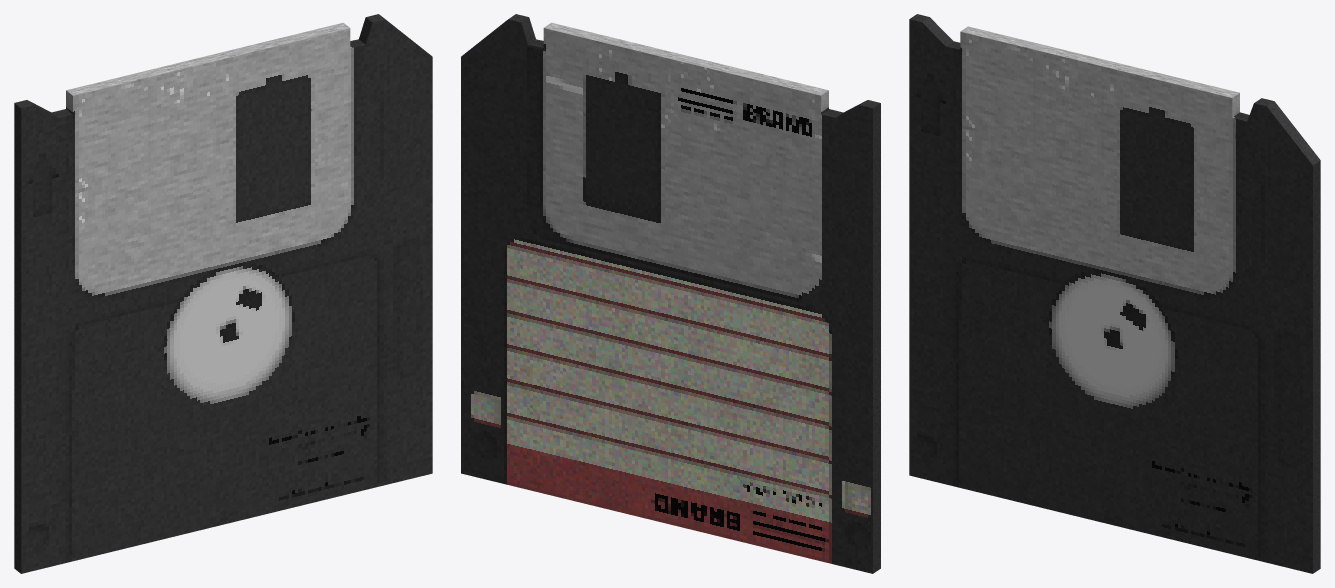
The model's file is scrap_floppy.glb.
3 views of the same model, side by side, from view 1: azimuth 30°, elevation 25°; view 2: azimuth 150°, elevation 25°; view 3: azimuth 330°, elevation 25° (orthographic). The views are drawn at different scales.
Parts seen in each view (by area): view 1: floopydisk; view 2: floopydisk; view 3: floopydisk.
Part boxes in pixels (x1,y1,x2,y2): floopydisk: (14,14,432,573); floopydisk: (461,14,880,573); floopydisk: (909,14,1320,573).
Bounding box in the file's own units: 0.0834 × 0.09 × 0.00261.
1 material, 1 textured.
